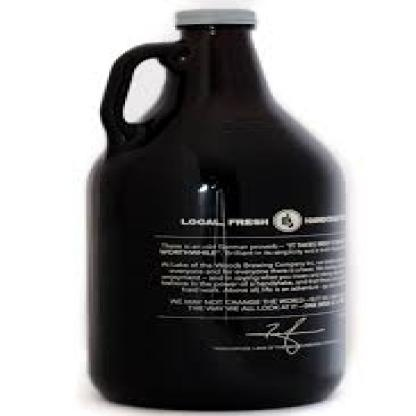trash: (88, 9, 345, 408), (123, 58, 166, 123)
